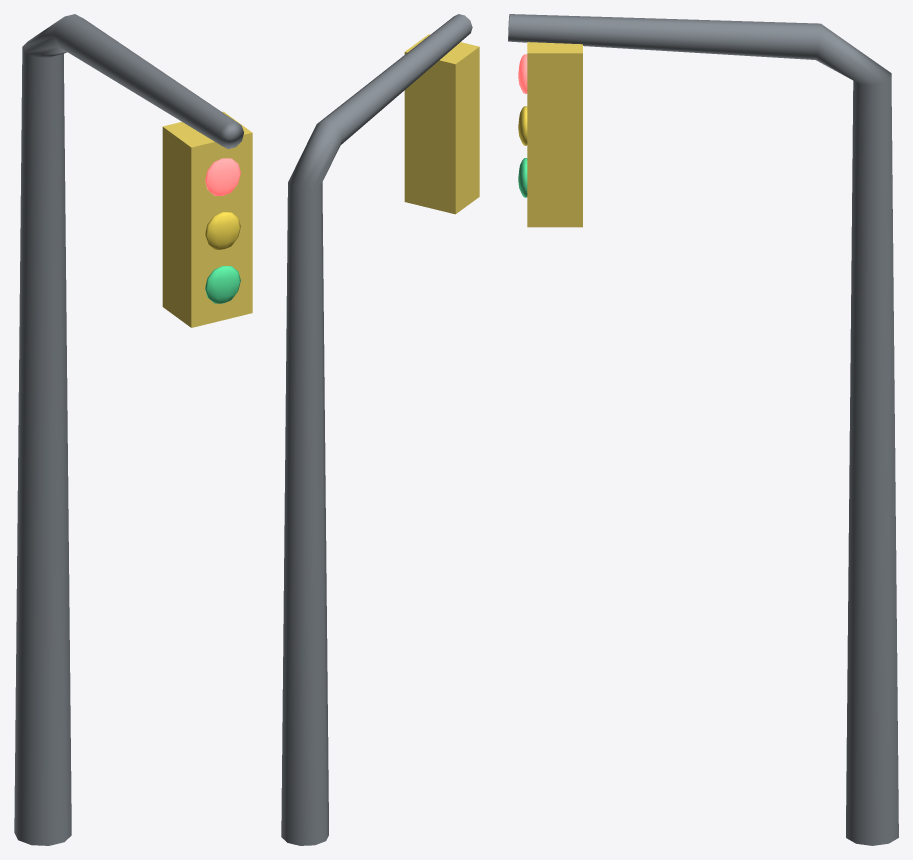
Rendered from urb_traffic_light.glb.
3 views of the same model, side by side, from view 1: azimuth 30°, elevation 25°; view 2: azimuth 150°, elevation 25°; view 3: azimuth 270°, elevation 25° (orthographic). The views are drawn at different scales.
Visible parts, largest first — view 1: pole, housing, signal_yellow, signal_red, signal_green; view 2: pole, housing; view 3: pole, housing.
Part boxes in pixels (bbox=[...]): pole: bbox=[14, 14, 243, 845]; housing: bbox=[162, 111, 252, 327]; signal_yellow: bbox=[205, 212, 240, 249]; signal_red: bbox=[205, 158, 240, 195]; signal_green: bbox=[205, 266, 240, 303]; pole: bbox=[281, 14, 472, 845]; housing: bbox=[404, 34, 479, 214]; pole: bbox=[508, 14, 898, 845]; housing: bbox=[527, 42, 582, 227].
Bounding box in the file's own units: 0.44 × 5.84 × 2.53.
